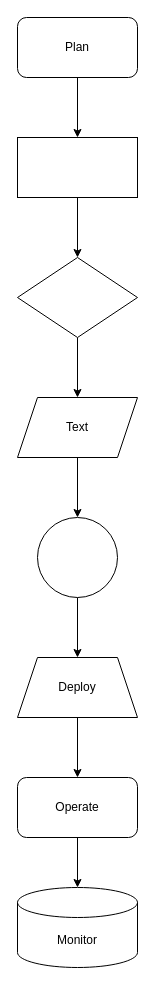
Some shapes in this 155 by 985 pixel diagram are drawn without their labels. The shapes that lost their labels are listed below. From the top down, each one's box as (x1, y1, x2, y2) in pixels, then its label:
(16, 136, 138, 198): Devops
(16, 256, 138, 338): Build
(36, 516, 118, 598): Release
